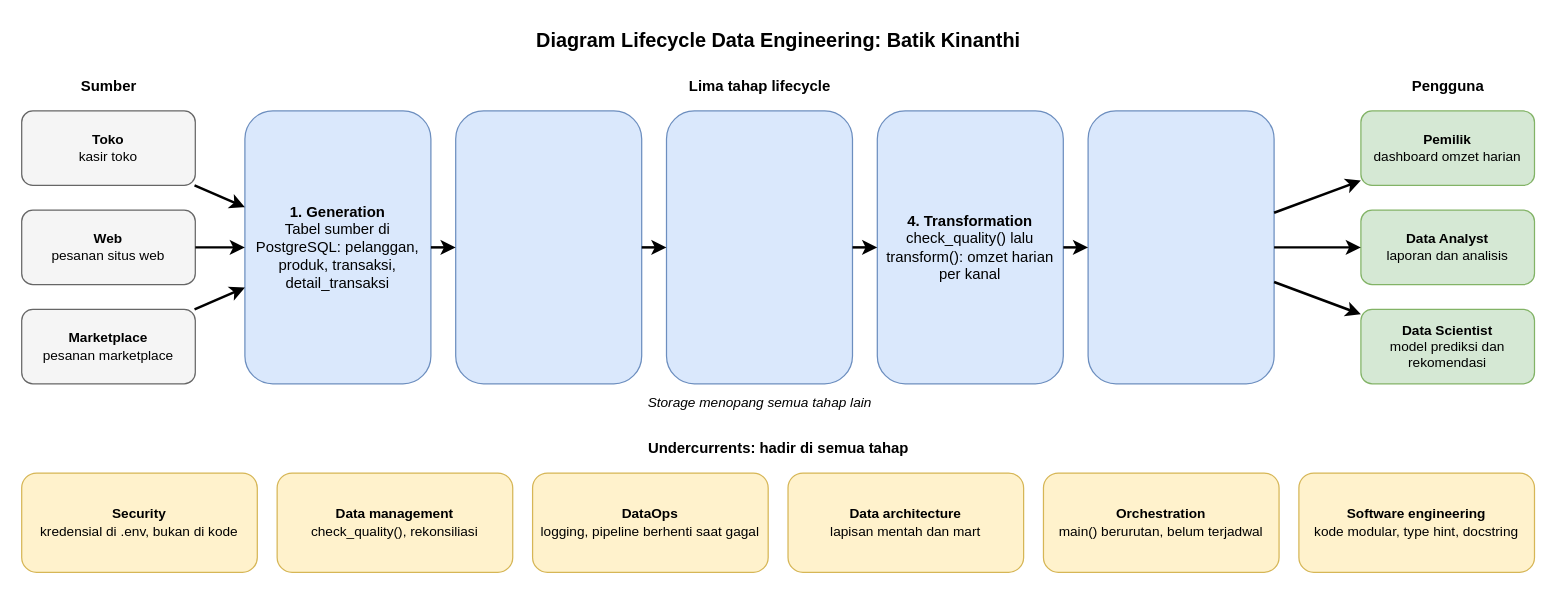
Some shapes in this 1556 by 594 pixel diagram are drawn without their labels. Each missing label, with the centre of its shape:
2. Ingestion ingest(): membaca tabel transaksi ke DataFrame: [548,247]
3. Storage store_raw(): salinan mentah data/raw/transaksi.csv: [758,247]
5. Serving serve(): tabel mart_omzet_harian: [1180,247]
